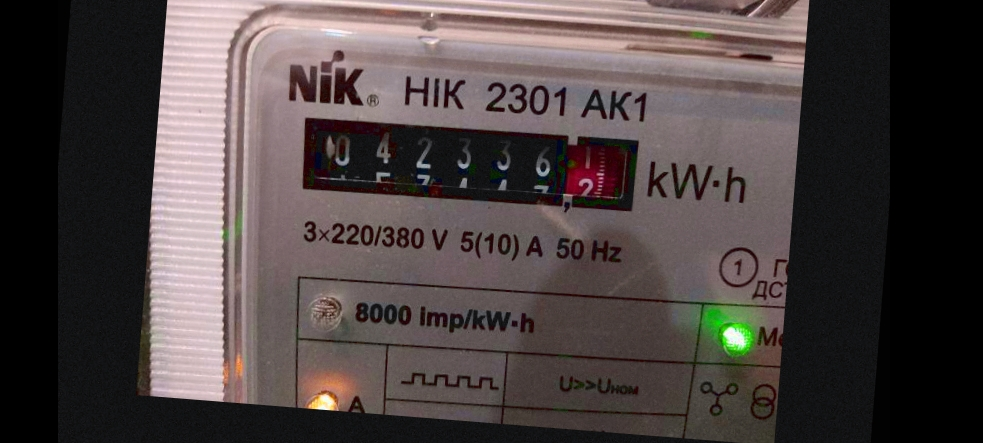0: (332, 131, 355, 167)
1: (580, 141, 596, 171)
2: (413, 133, 436, 171), (575, 175, 596, 198)
3: (454, 133, 476, 172), (492, 136, 515, 173)
4: (373, 127, 395, 166)
6: (531, 142, 555, 178)
screen: (292, 103, 650, 223)
